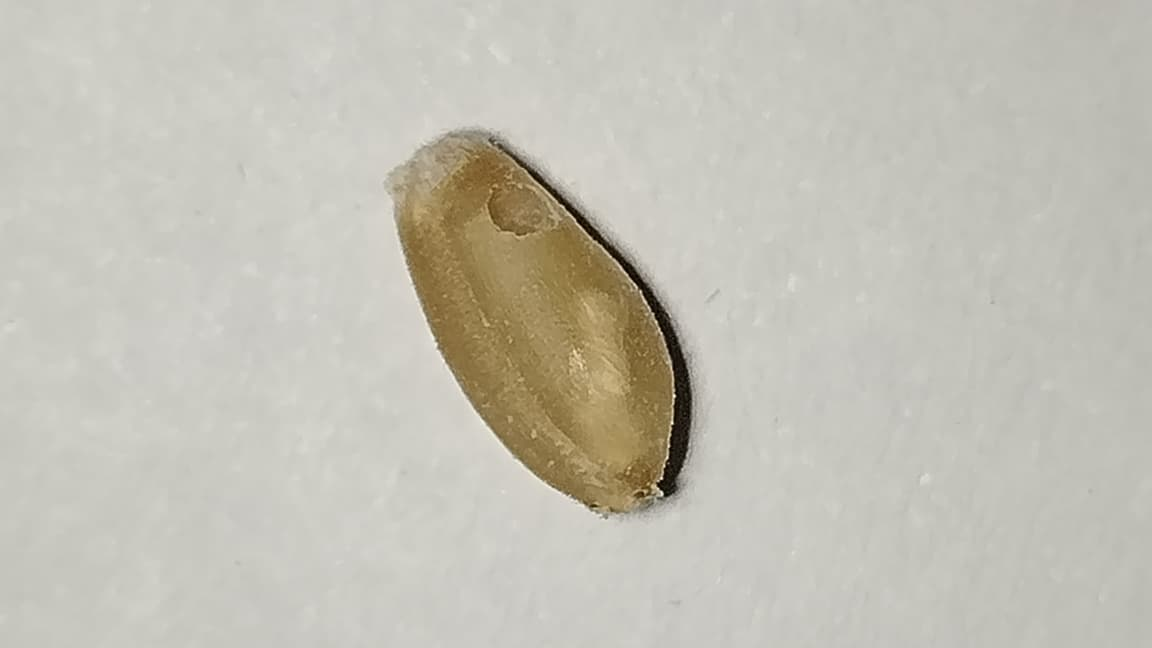damage: (385, 128, 673, 514)
insectdamage: (476, 174, 568, 254)
